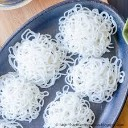idiyappam: (59, 5, 118, 56), (69, 55, 128, 99), (14, 34, 59, 84), (44, 88, 93, 128), (1, 74, 42, 120)
